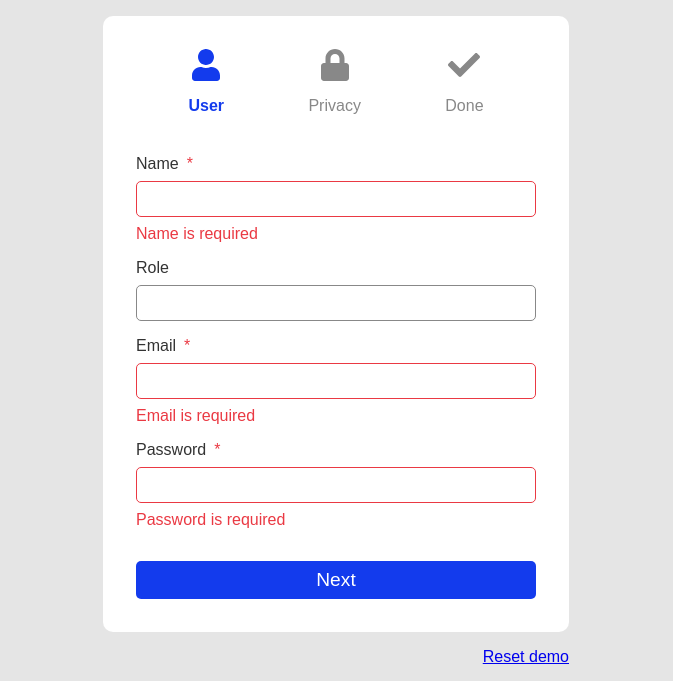
Test: navigation › navigates to Privacy page on successful submission
Type "Thomas Frank" into the field labelled "Name" at (336, 199), box left=136, top=181, right=536, bottom=217
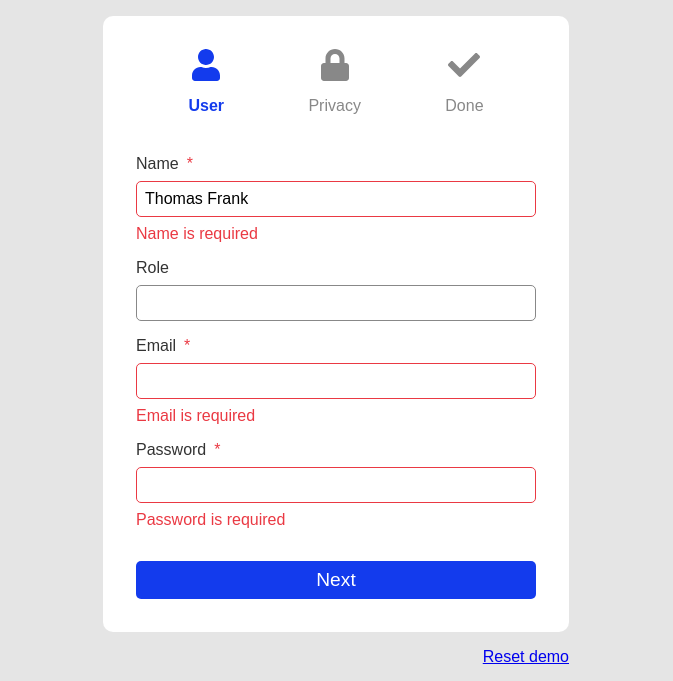
Type "thomas@test.com" into the field labelled "Email" at (336, 381), box left=136, top=363, right=536, bottom=399
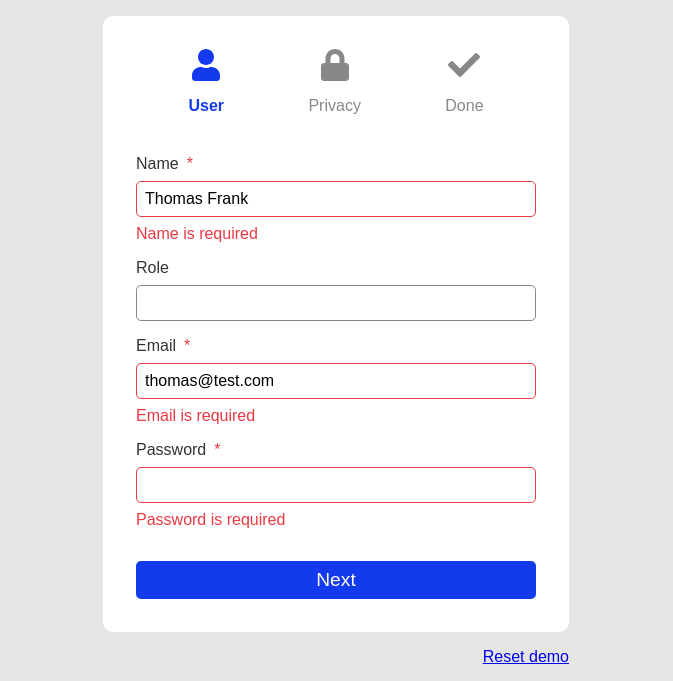
Type "Password123" into the password field labelled "Password" at (336, 485), box left=136, top=467, right=536, bottom=503
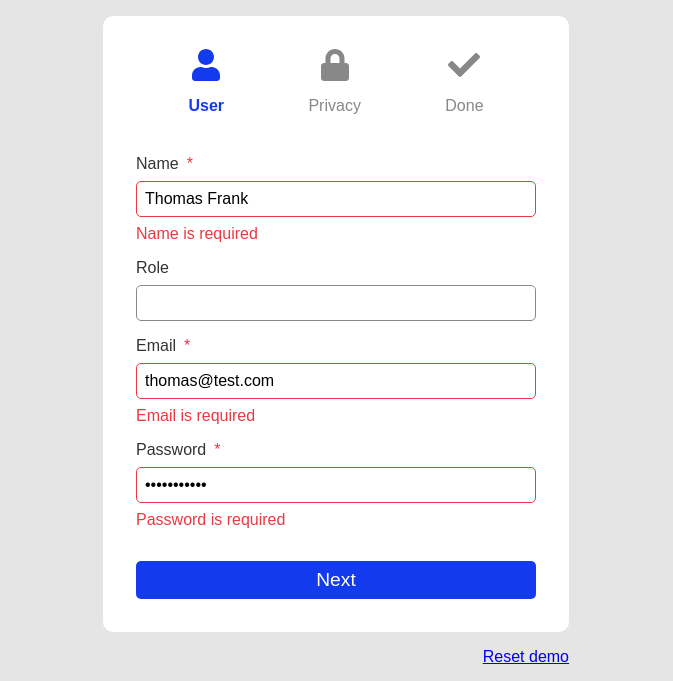
Click the button with test id "custom-btn" at (336, 580), box left=136, top=561, right=536, bottom=599
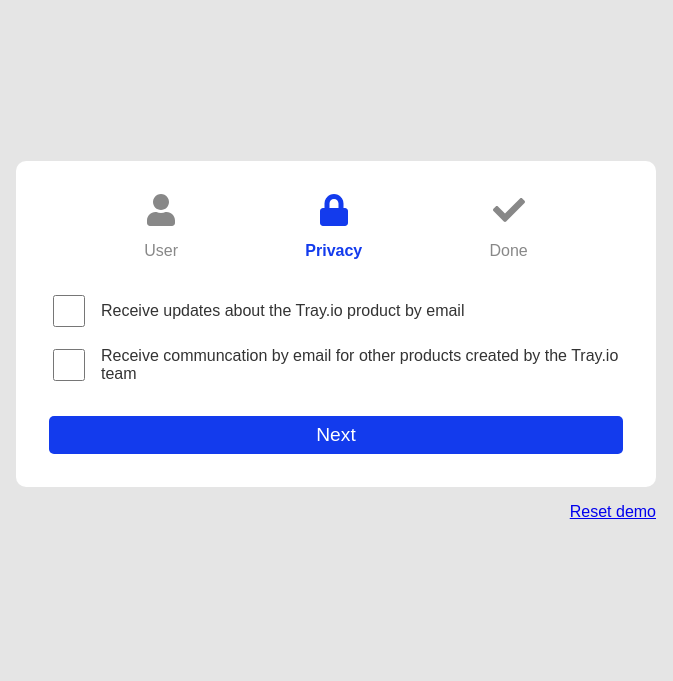
Check: the form with test id "user-preferences" is shown, box left=49, top=292, right=623, bottom=454
